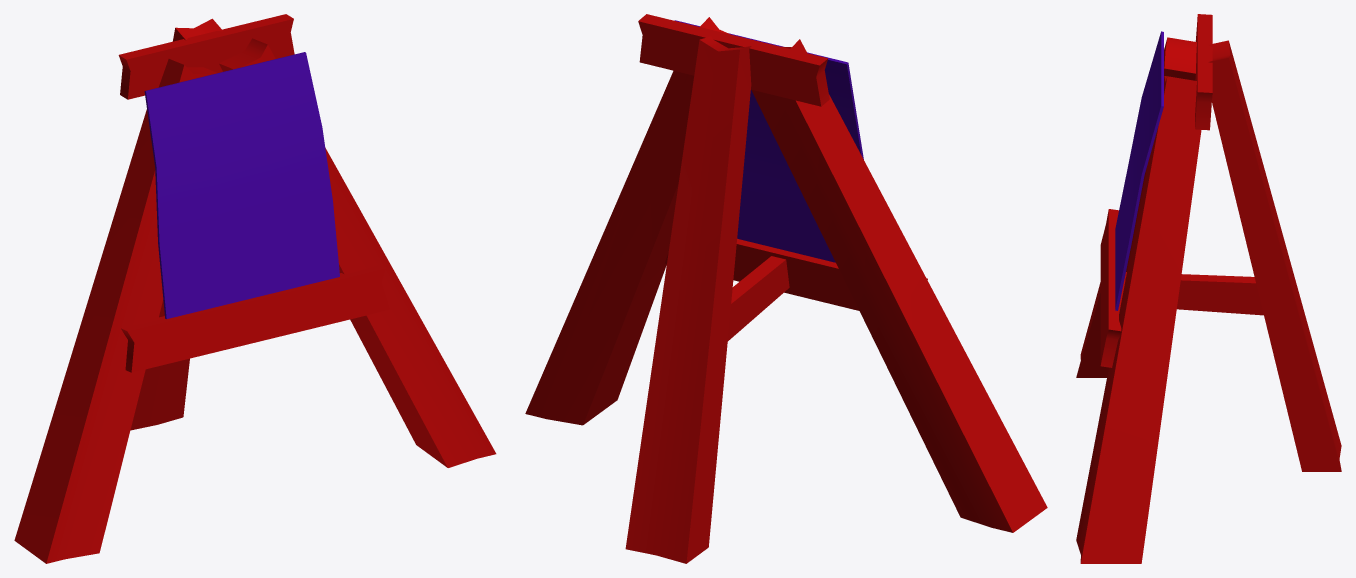
File: easel.fbx
The picture shows the model from 3 angles, left to right: view 1: azimuth 30°, elevation 25°; view 2: azimuth 150°, elevation 25°; view 3: azimuth 270°, elevation 25°; orthographic projection. The views are drawn at different scales.
Visible parts, largest first — view 1: canvas1, wood_plank5, wood_plank6, wood_plank1, wood_plank3, wood_plank2; view 2: wood_plank5, wood_plank2, wood_plank6, canvas1, wood_plank3, wood_plank1, wood_plank4; view 3: wood_plank6, wood_plank2, canvas1, wood_plank4, wood_plank5, wood_plank1, wood_plank3.
Boxes of the visible parts, x1,y1,x2,y2 form: canvas1: [144, 52, 339, 319]; wood_plank5: [14, 59, 217, 563]; wood_plank6: [219, 38, 496, 467]; wood_plank1: [121, 265, 390, 372]; wood_plank3: [118, 14, 294, 99]; wood_plank2: [130, 18, 222, 430]; wood_plank5: [751, 39, 1047, 532]; wood_plank2: [625, 36, 751, 563]; wood_plank6: [525, 17, 729, 425]; canvas1: [674, 20, 863, 262]; wood_plank3: [638, 14, 829, 106]; wood_plank1: [664, 238, 927, 310]; wood_plank4: [727, 256, 789, 341]; wood_plank6: [1076, 76, 1201, 563]; wood_plank2: [1208, 40, 1341, 471]; canvas1: [1115, 31, 1163, 310]; wood_plank4: [1125, 272, 1263, 315]; wood_plank5: [1076, 37, 1196, 377]; wood_plank1: [1100, 209, 1125, 367]; wood_plank3: [1195, 14, 1212, 130].
Bounding box in the file's own units: 33.75 × 30.73 × 18.05.
